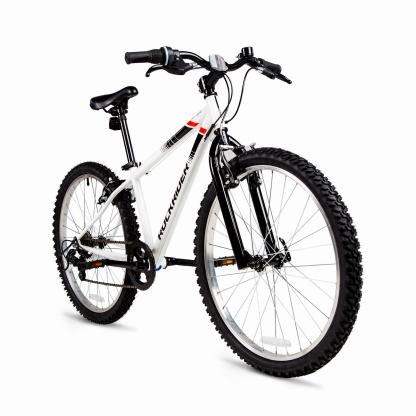Bike: (49, 35, 368, 383)
